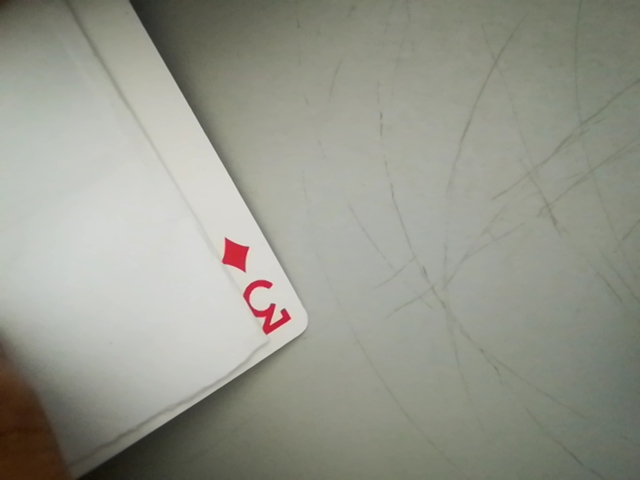fk 3: (214, 231, 301, 346)
